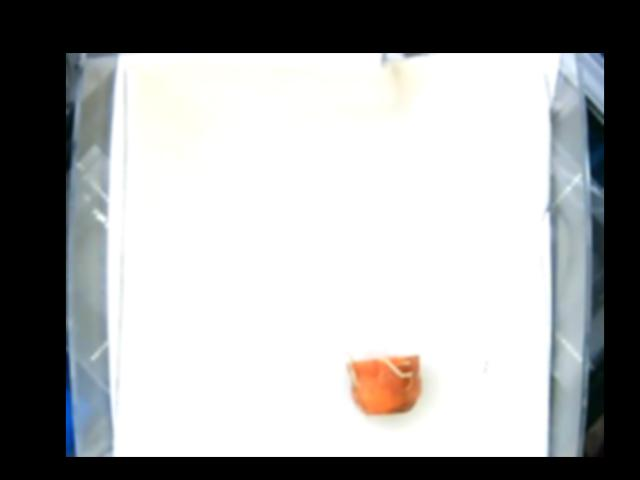Carrot: (345, 354, 420, 419)
